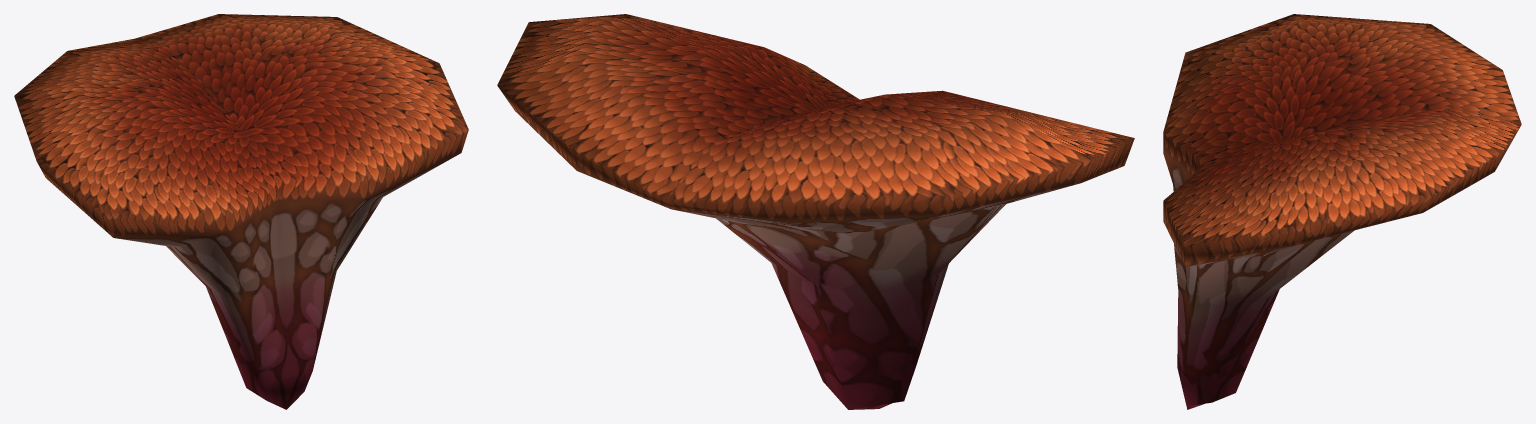
Rendered from Coral_21.FBX.
3 renders of one model, left to right at view 1: azimuth 30°, elevation 25°; view 2: azimuth 150°, elevation 25°; view 3: azimuth 270°, elevation 25°, orthographic. The views are drawn at different scales.
Visible parts, largest first — view 1: Coral_21; view 2: Coral_21; view 3: Coral_21.
Part boxes in pixels (x1,y1,x2,y2): Coral_21: (14,14,468,409); Coral_21: (497,14,1134,409); Coral_21: (1163,14,1521,409).
Size of the model in its own units: 68.45 by 46.9 by 48.02.
